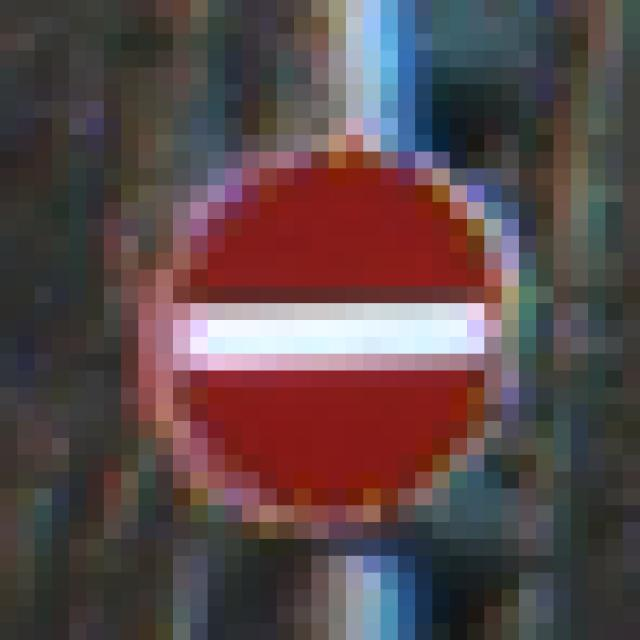No Entry: (105, 102, 554, 557)
